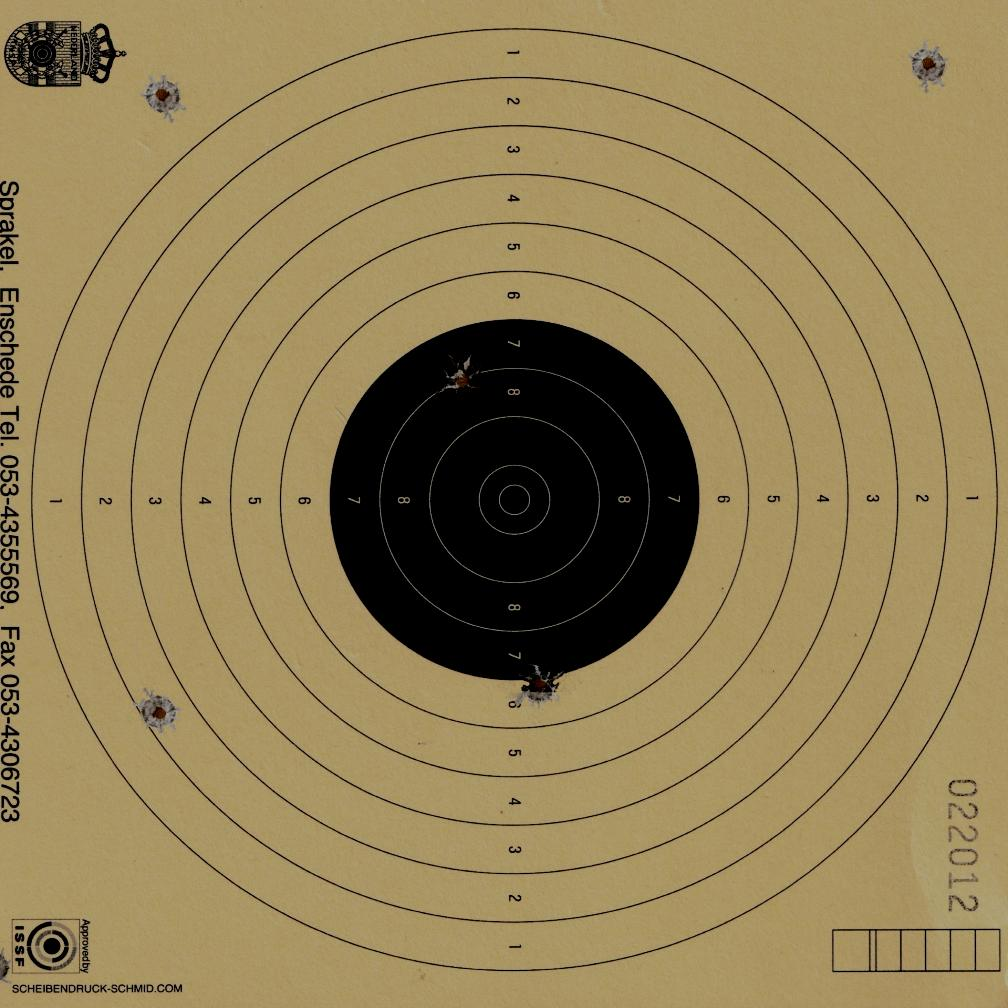0: (132, 68, 191, 129), (907, 39, 951, 93), (0, 947, 19, 995)
2: (131, 683, 183, 740)
7: (511, 660, 570, 708)
8: (433, 350, 484, 398)
Target: (24, 25, 1002, 979)
black_contour: (329, 319, 700, 683)
